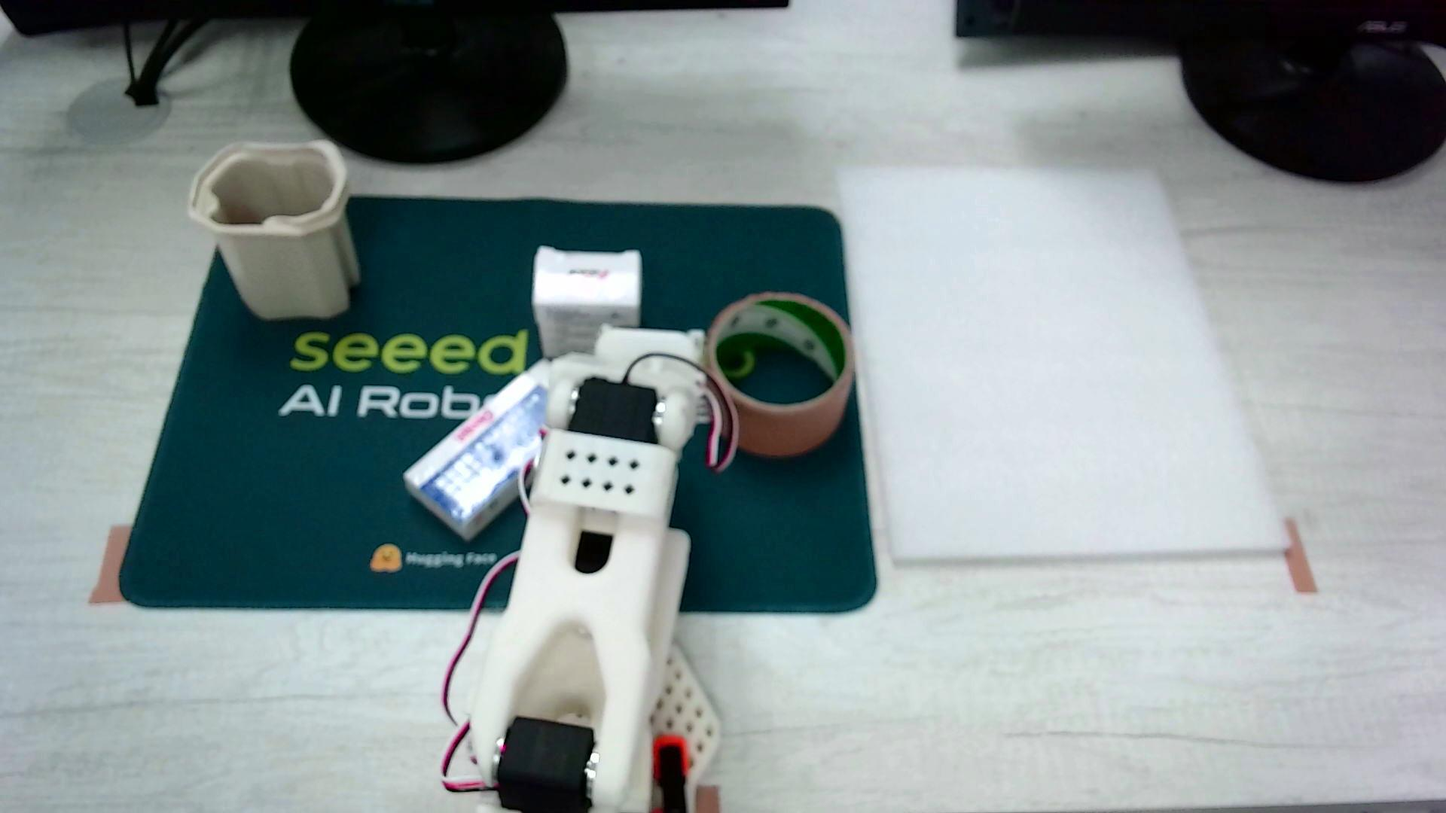eraser: (532, 245, 641, 358)
